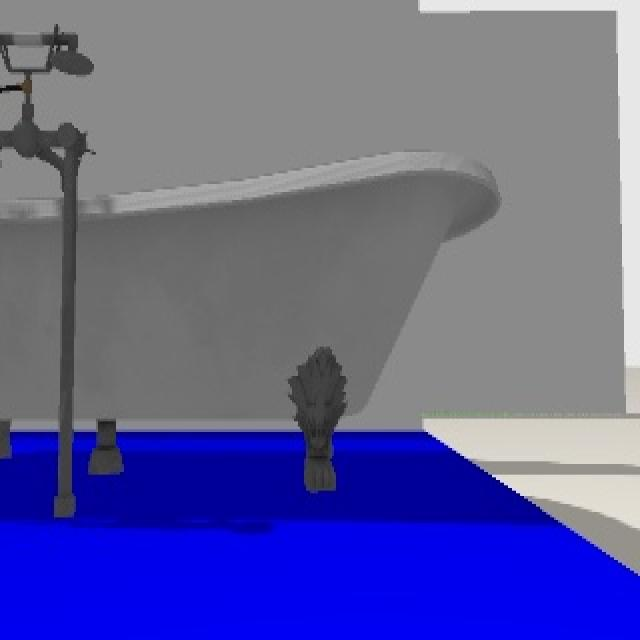bathtub: (1, 28, 503, 529)
